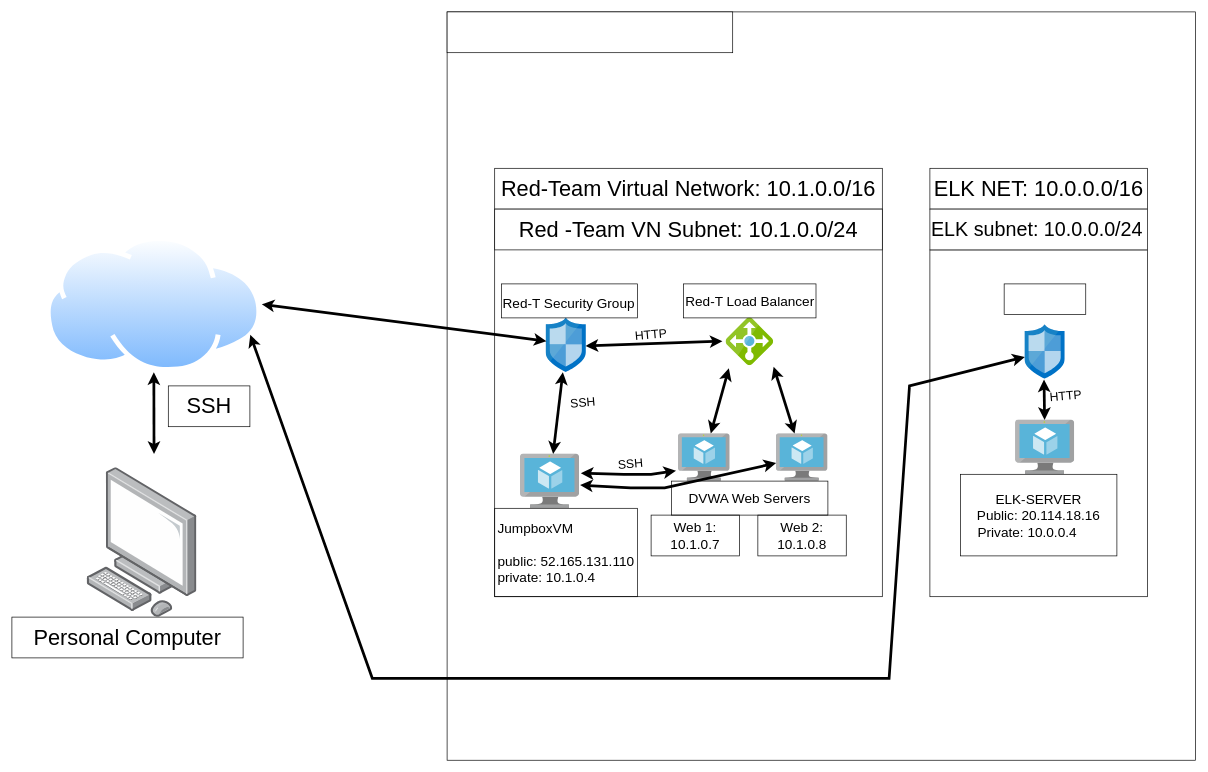
The diagram is 1208 pixels wide and 772 high, and some of its shapes have lost their labels. Here are the shapes that lost their labels. From the top down, the centre of each, then its label:
At [589,32]: "Azure Resource Group".
At [153,304]: "the internet".
At [1044,298]: "ELK-NSG".
